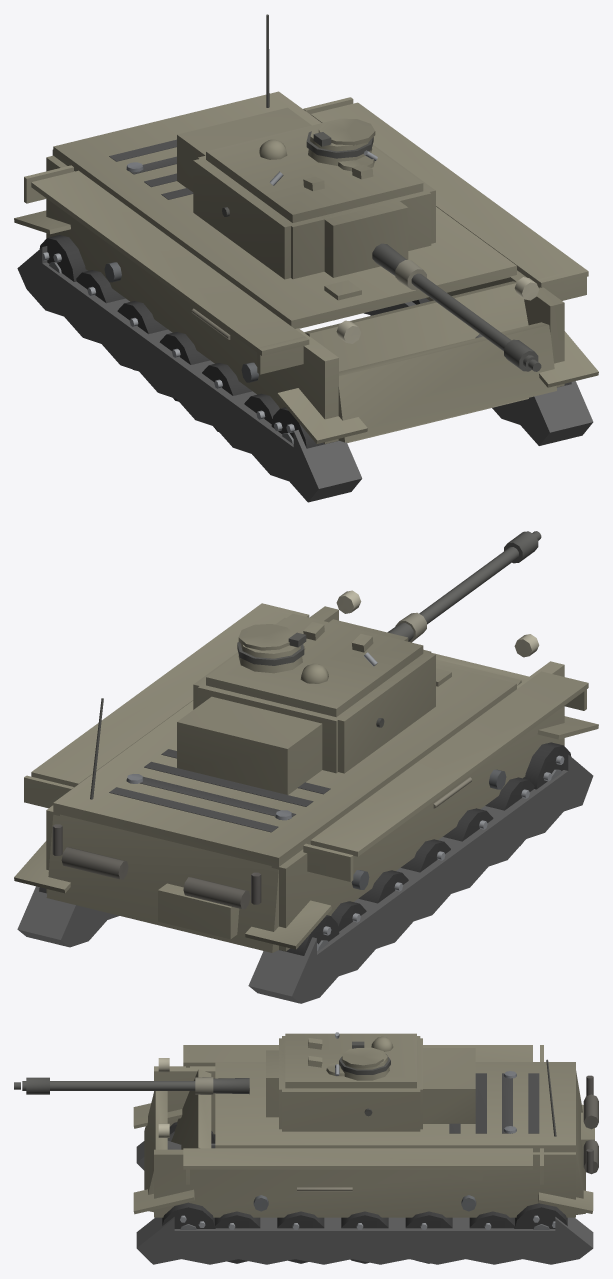
Rendered from comet.glb.
3 views of the same model, one above another, from view 1: azimuth 30°, elevation 25°; view 2: azimuth 150°, elevation 25°; view 3: azimuth 270°, elevation 25° (orthographic). The views are drawn at different scales.
Visible parts, largest first — view 1: hullSide, tracks, hullTop, lowerPlate, turretRoof, glacis, turretFront, turretSide, mantlet, barrel, wheel6, wheel2 (+5 smaller); view 2: hullSide, hullTop, tracks, hullRear, turretRoof, turretFront, turretSide, barrel, turretRear, wheel5, wheel4, wheel3 (+5 smaller); view 3: hullSide, tracks, hullTop, turretRoof, turretSide, turretFront, barrel, hullRear, glacis, lowerPlate, wheel12, wheel13 (+7 smaller).
Part boxes in pixels (left/top/right/bottom): hullSide: left=24, top=97, right=588, bottom=443; tracks: left=14, top=210, right=598, bottom=502; hullTop: left=53, top=91, right=516, bottom=328; lowerPlate: left=338, top=322, right=556, bottom=442; turretRoof: left=206, top=118, right=423, bottom=222; glacis: left=304, top=280, right=528, bottom=442; turretFront: left=177, top=107, right=431, bottom=279; turretSide: left=193, top=144, right=435, bottom=279; mantlet: left=321, top=201, right=408, bottom=277; barrel: left=372, top=243, right=541, bottom=371; wheel6: left=39, top=235, right=87, bottom=281; wheel2: left=159, top=332, right=209, bottom=401; hullSide: left=24, top=590, right=588, bottom=951; hullTop: left=53, top=664, right=516, bottom=867; tracks: left=14, top=716, right=598, bottom=1003; hullRear: left=46, top=698, right=280, bottom=952; turretRoof: left=206, top=613, right=423, bottom=717; turretFront: left=177, top=649, right=431, bottom=794; turretSide: left=193, top=617, right=435, bottom=773; barrel: left=387, top=531, right=541, bottom=642; turretRear: left=197, top=682, right=339, bottom=773; wheel5: left=523, top=742, right=571, bottom=789; wheel4: left=485, top=777, right=534, bottom=845; wheel3: left=443, top=808, right=493, bottom=841; hullSide: left=154, top=1045, right=575, bottom=1217; tracks: left=133, top=1103, right=593, bottom=1264; hullTop: left=215, top=1062, right=575, bottom=1152; turretRoof: left=285, top=1032, right=416, bottom=1088; turretSide: left=282, top=1036, right=420, bottom=1131; turretFront: left=279, top=1038, right=475, bottom=1129; barrel: left=14, top=1077, right=249, bottom=1095; hullRear: left=546, top=1059, right=598, bottom=1214; glacis: left=167, top=1069, right=249, bottom=1149; lowerPlate: left=144, top=1091, right=167, bottom=1212; wheel12: left=162, top=1202, right=215, bottom=1229; wheel13: left=514, top=1203, right=567, bottom=1229.
Size of the model in its own units: 4.13 by 2.97 by 8.45.
